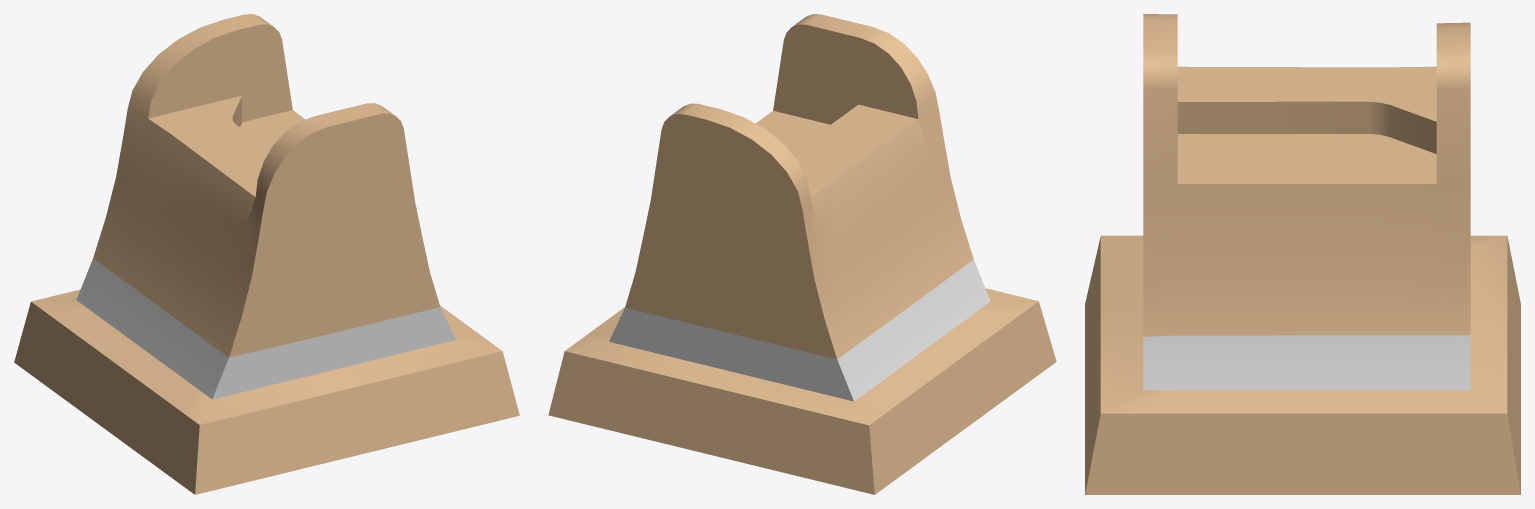
Rendered from HolsterInjector.fbx.
3 views of the same model, side by side, from view 1: azimuth 30°, elevation 25°; view 2: azimuth 150°, elevation 25°; view 3: azimuth 270°, elevation 25° (orthographic). The views are drawn at different scales.
Parts seen in each view (by area): view 1: Cube.009; view 2: Cube.009; view 3: Cube.009.
Part boxes in pixels (bbox=[...]): Cube.009: bbox=[14, 14, 519, 494]; Cube.009: bbox=[548, 14, 1056, 494]; Cube.009: bbox=[1085, 14, 1520, 494].
Size of the model in its own units: 9.57 by 8.79 by 9.24.
